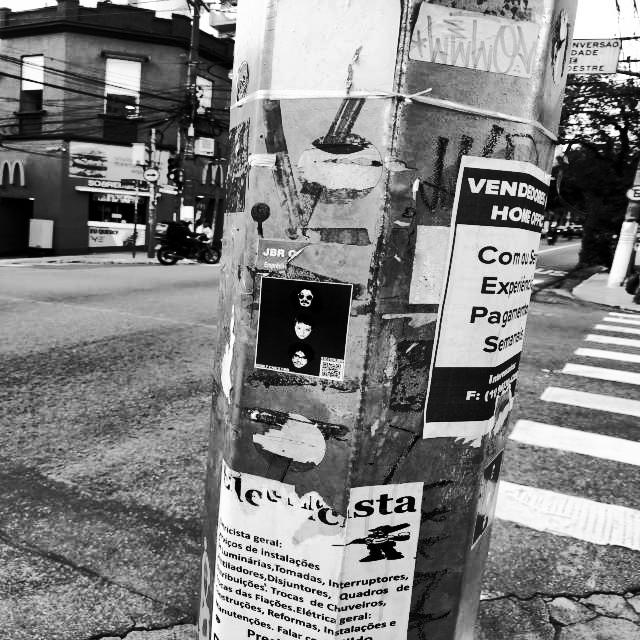qr_code: (322, 363, 341, 379)
